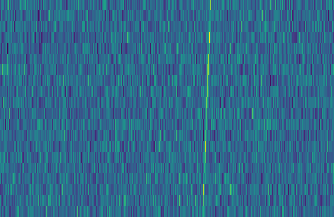signal: (199, 0, 215, 217)
